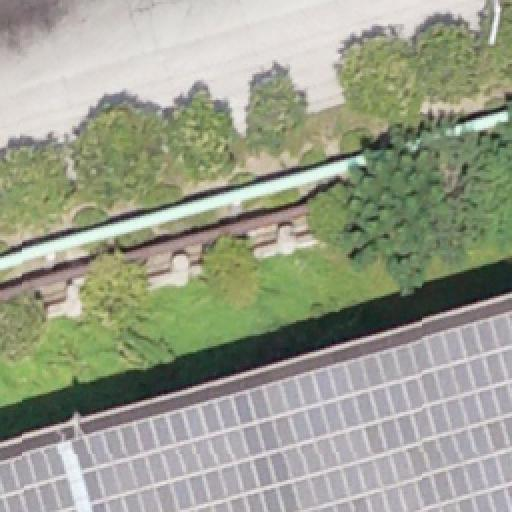solar-panel: (72, 312, 512, 512), (1, 444, 79, 512)
